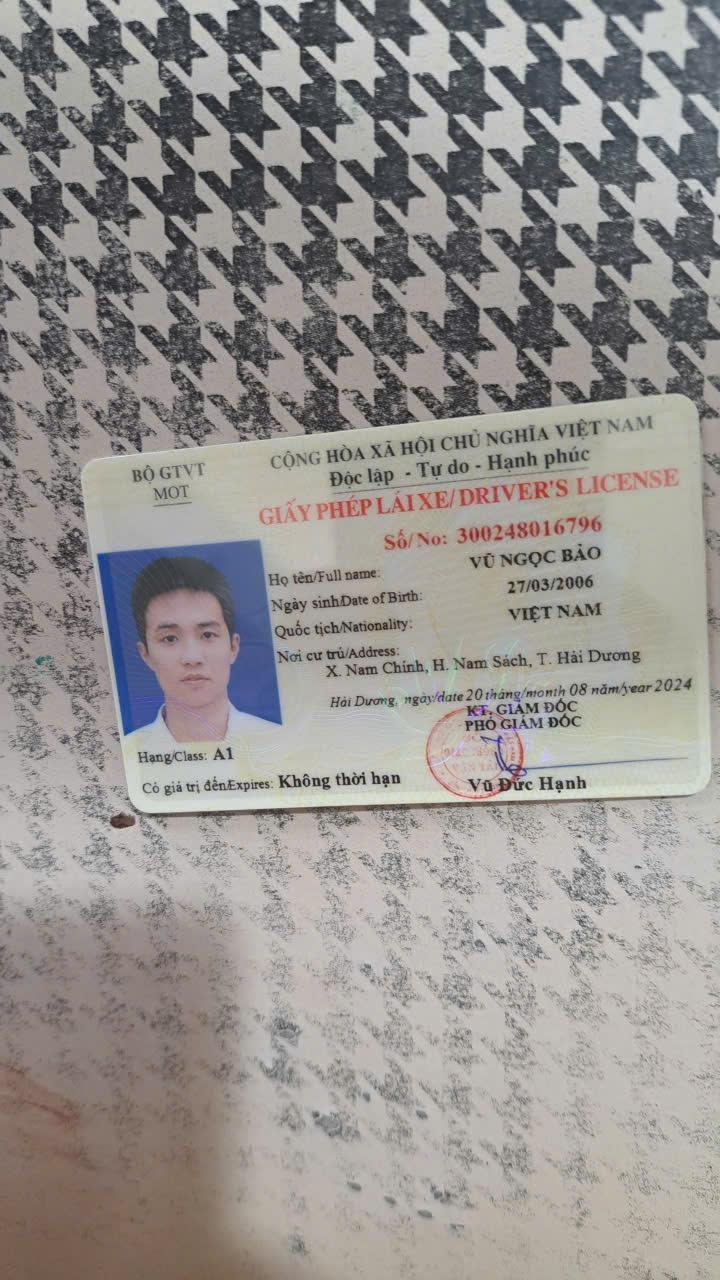gplx: (70, 387, 715, 825)
